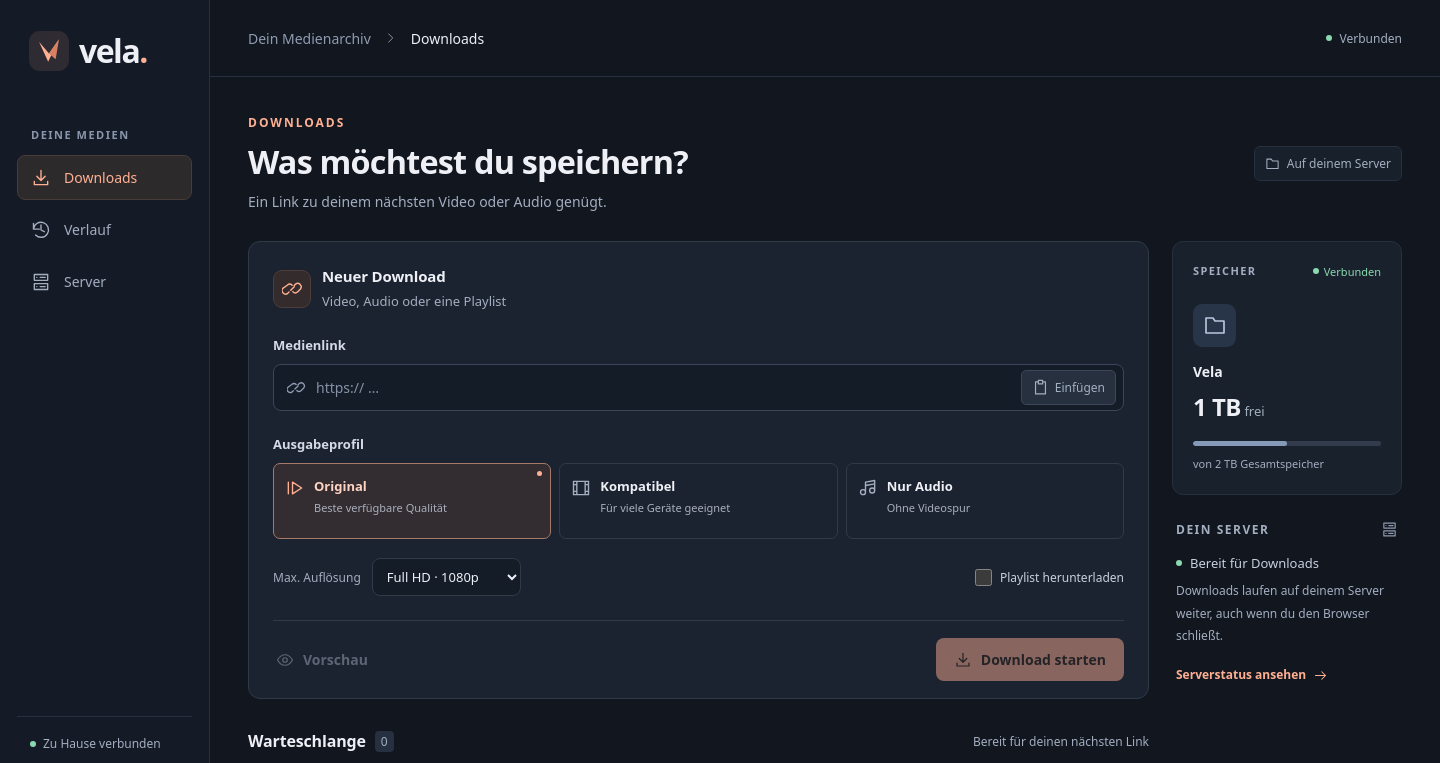
Test case: Vela-Arbeitsabläufe › lädt eine Metadatenvorschau ohne externe Thumbnail-Anfragen
Type "https://example.com/video" into the field labelled "Medienlink" at (663, 388), box [316,370,1011,405]
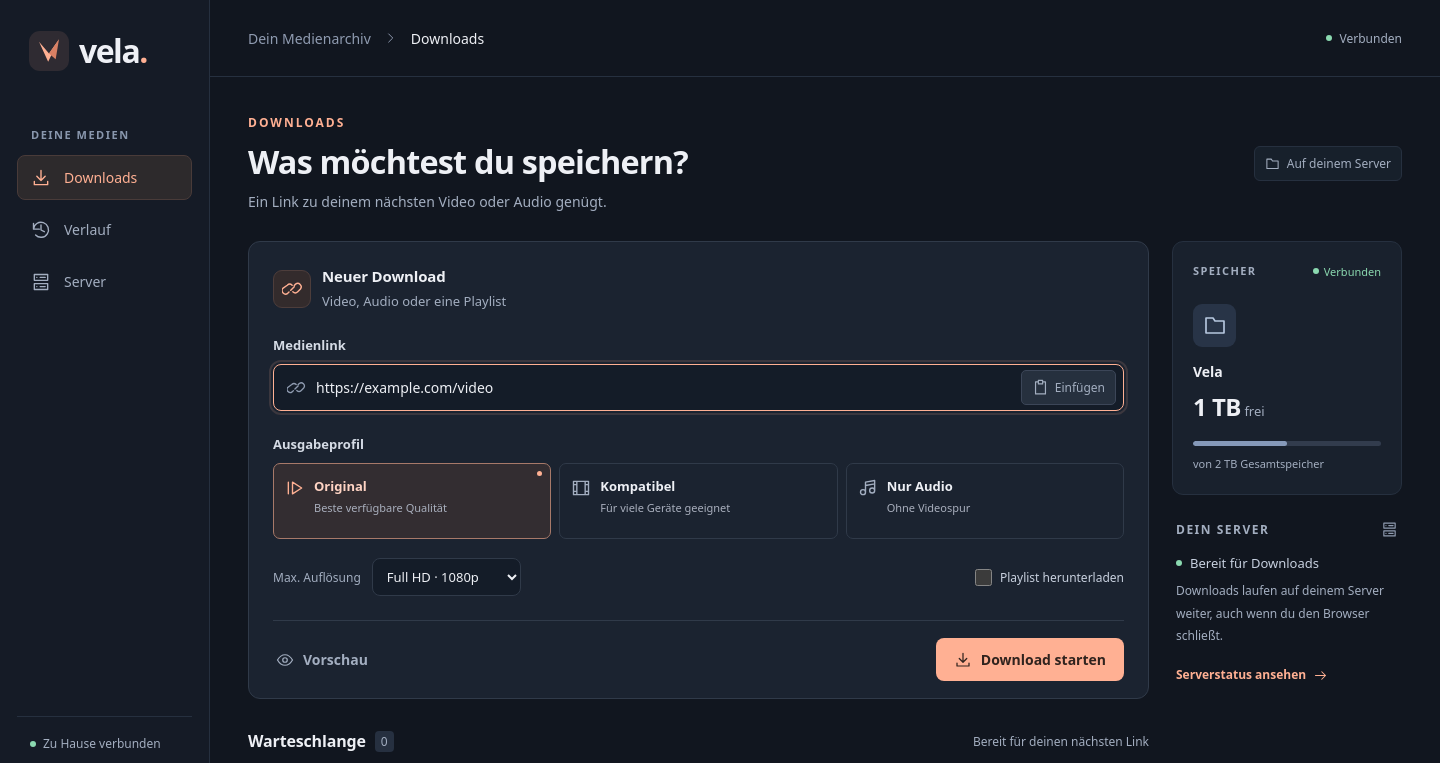
Click the button "Vorschau" at (326, 660), box [273,638,379,681]
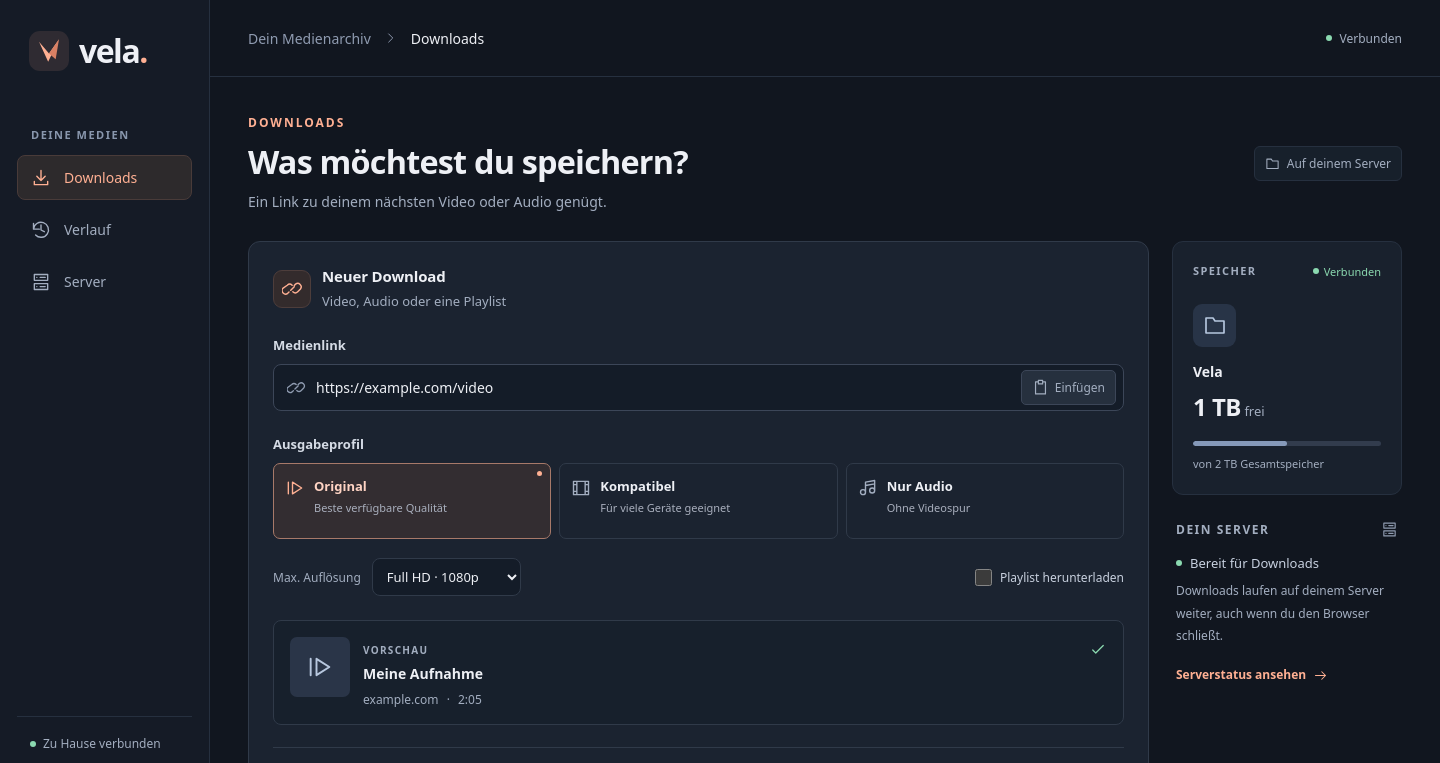
Expected: the heading "Meine Aufnahme" is shown, [363,664,483,683]
Expected: the text "2:05" is shown, [458,691,482,708]
